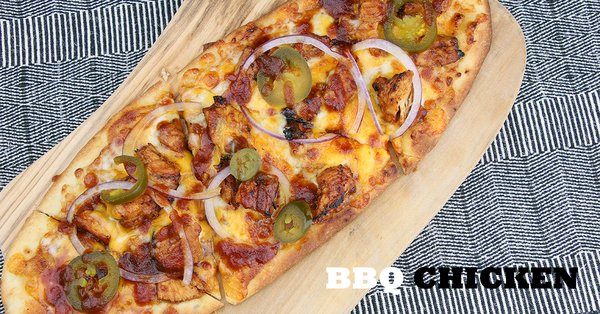sandwich: (0, 1, 498, 309)
